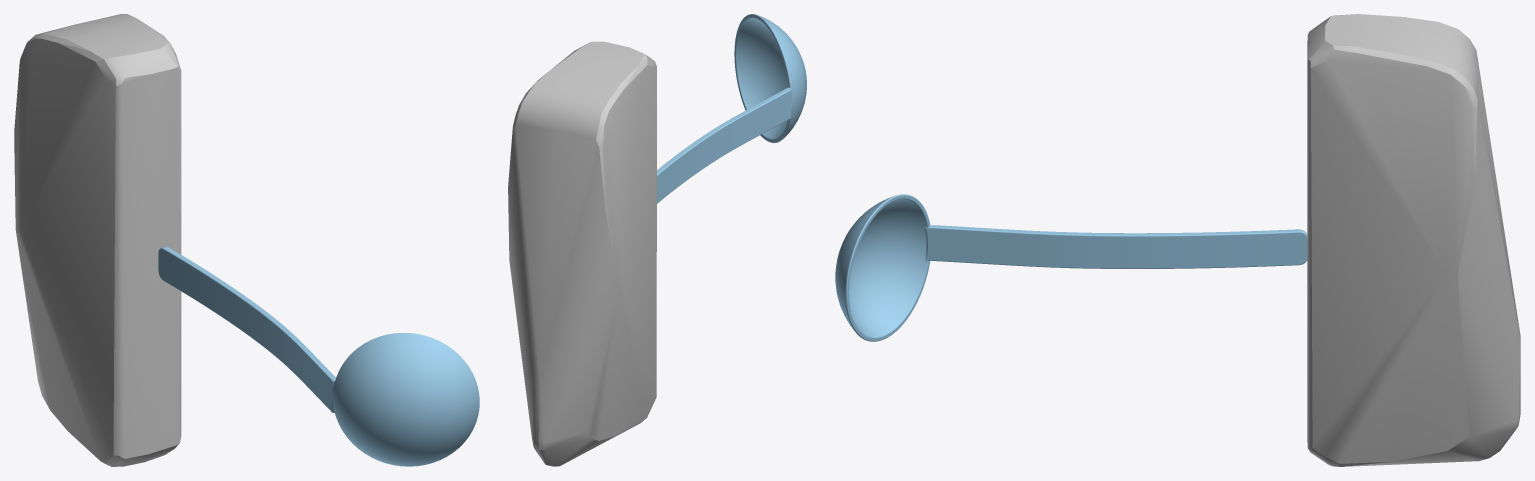
Rendered from mount_hand.obj.
The picture shows the model from 3 angles, left to right: view 1: azimuth 30°, elevation 25°; view 2: azimuth 150°, elevation 25°; view 3: azimuth 270°, elevation 25°; orthographic projection. The views are drawn at different scales.
Parts seen in each view (by area): view 1: hand, mesh29; view 2: hand, mesh29; view 3: hand, mesh29.
Boxes of the visible parts, x1,y1,x2,y2 form: hand: [14, 14, 181, 466]; mesh29: [158, 246, 479, 466]; hand: [508, 41, 656, 466]; mesh29: [657, 14, 806, 203]; hand: [1307, 14, 1520, 466]; mesh29: [835, 194, 1307, 341].
Bounding box in the file's own units: 0.0858 × 0.2044 × 0.295.
